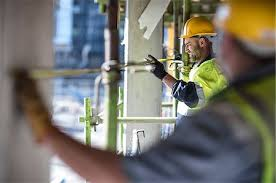Person_wearing_helmet: (174, 9, 218, 52)
